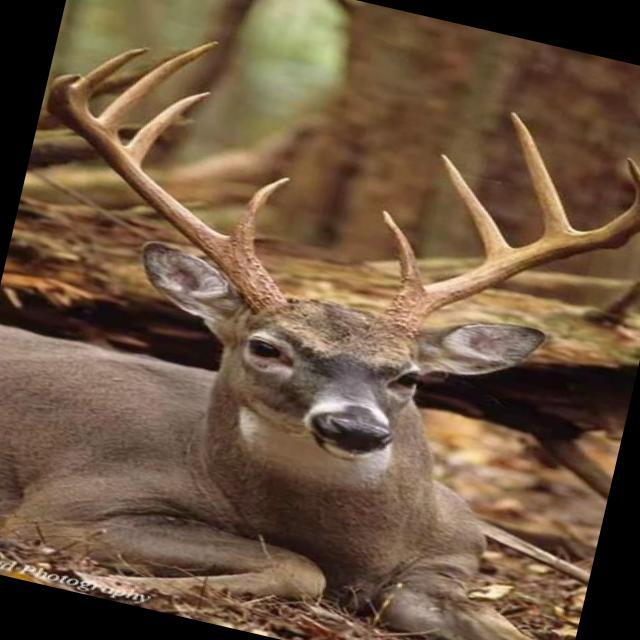E1: (625, 156, 640, 201)
L-F: (383, 200, 640, 336)
L-G1: (381, 210, 423, 296)
L-G2: (441, 154, 517, 263)
L-G3: (509, 111, 579, 237)
R-F: (45, 71, 291, 314)
R-G1: (230, 177, 290, 249)
R-G2: (124, 91, 210, 168)
R-G3: (96, 41, 220, 134)
R-G4: (68, 47, 146, 112)
